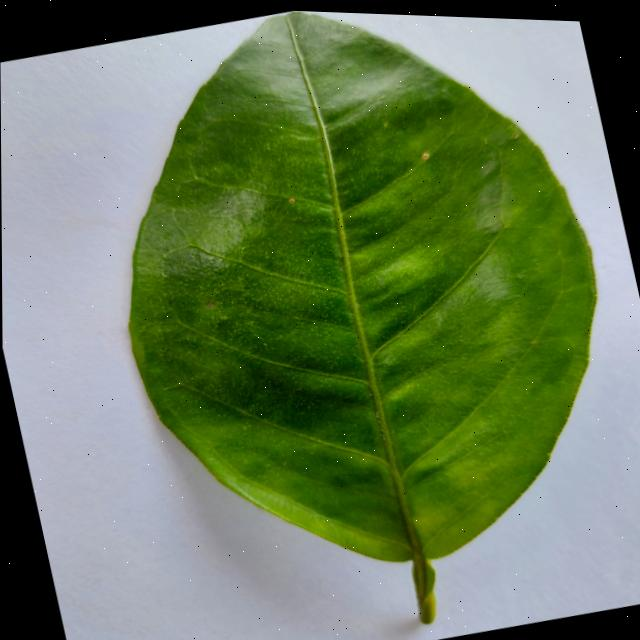greening: (128, 11, 594, 621)
